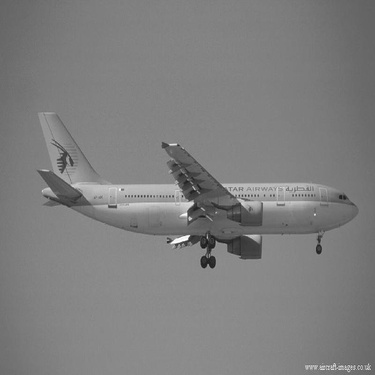airplane: (17, 90, 365, 282)
